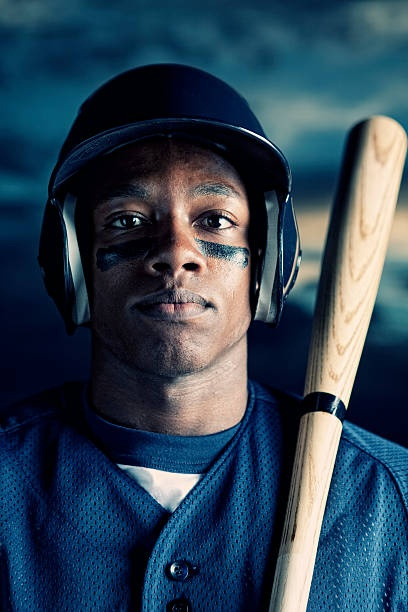bita: (274, 115, 408, 601)
